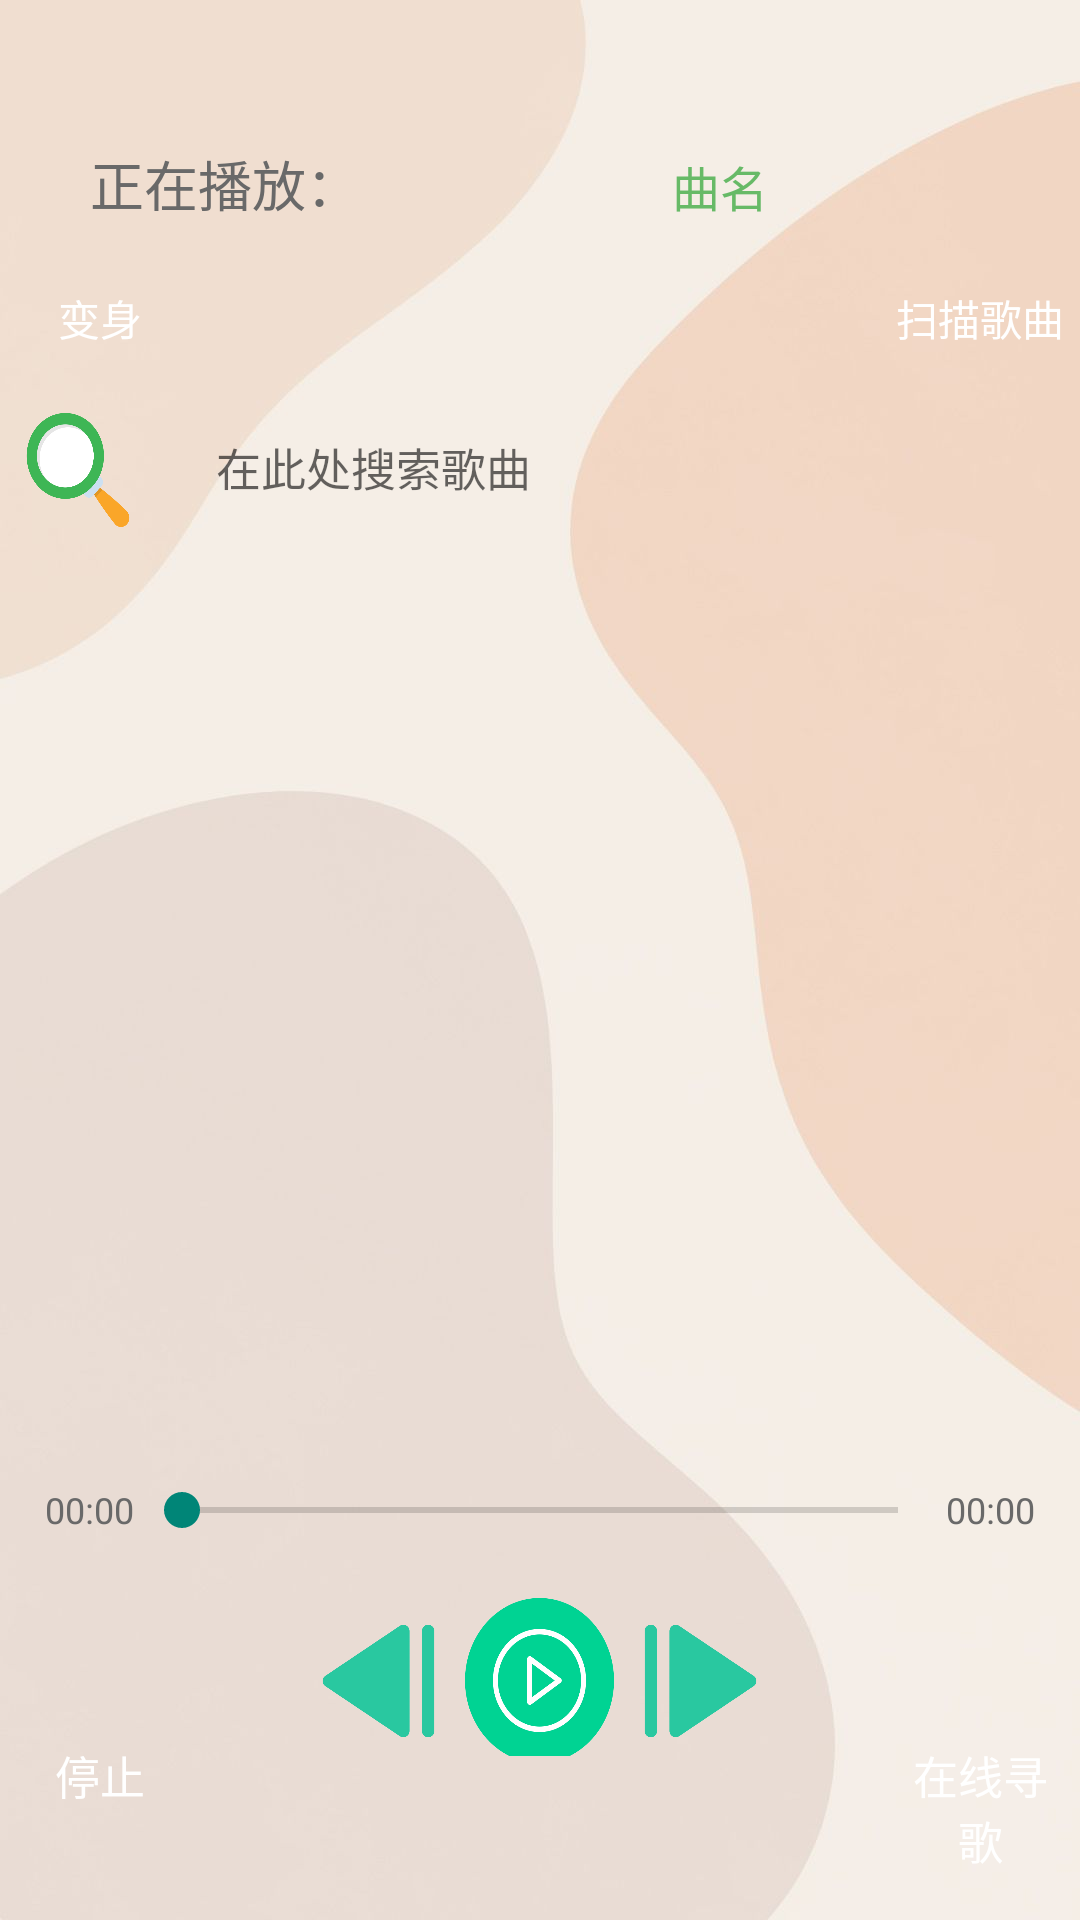

Locate icon controls on the screen. Image size 1080x1920, boxes as (x1, y1, x2, y2).
next: (645, 1625, 756, 1737)
playsong: (465, 1598, 614, 1756)
pre: (323, 1625, 434, 1737)
search: (27, 413, 129, 527)
